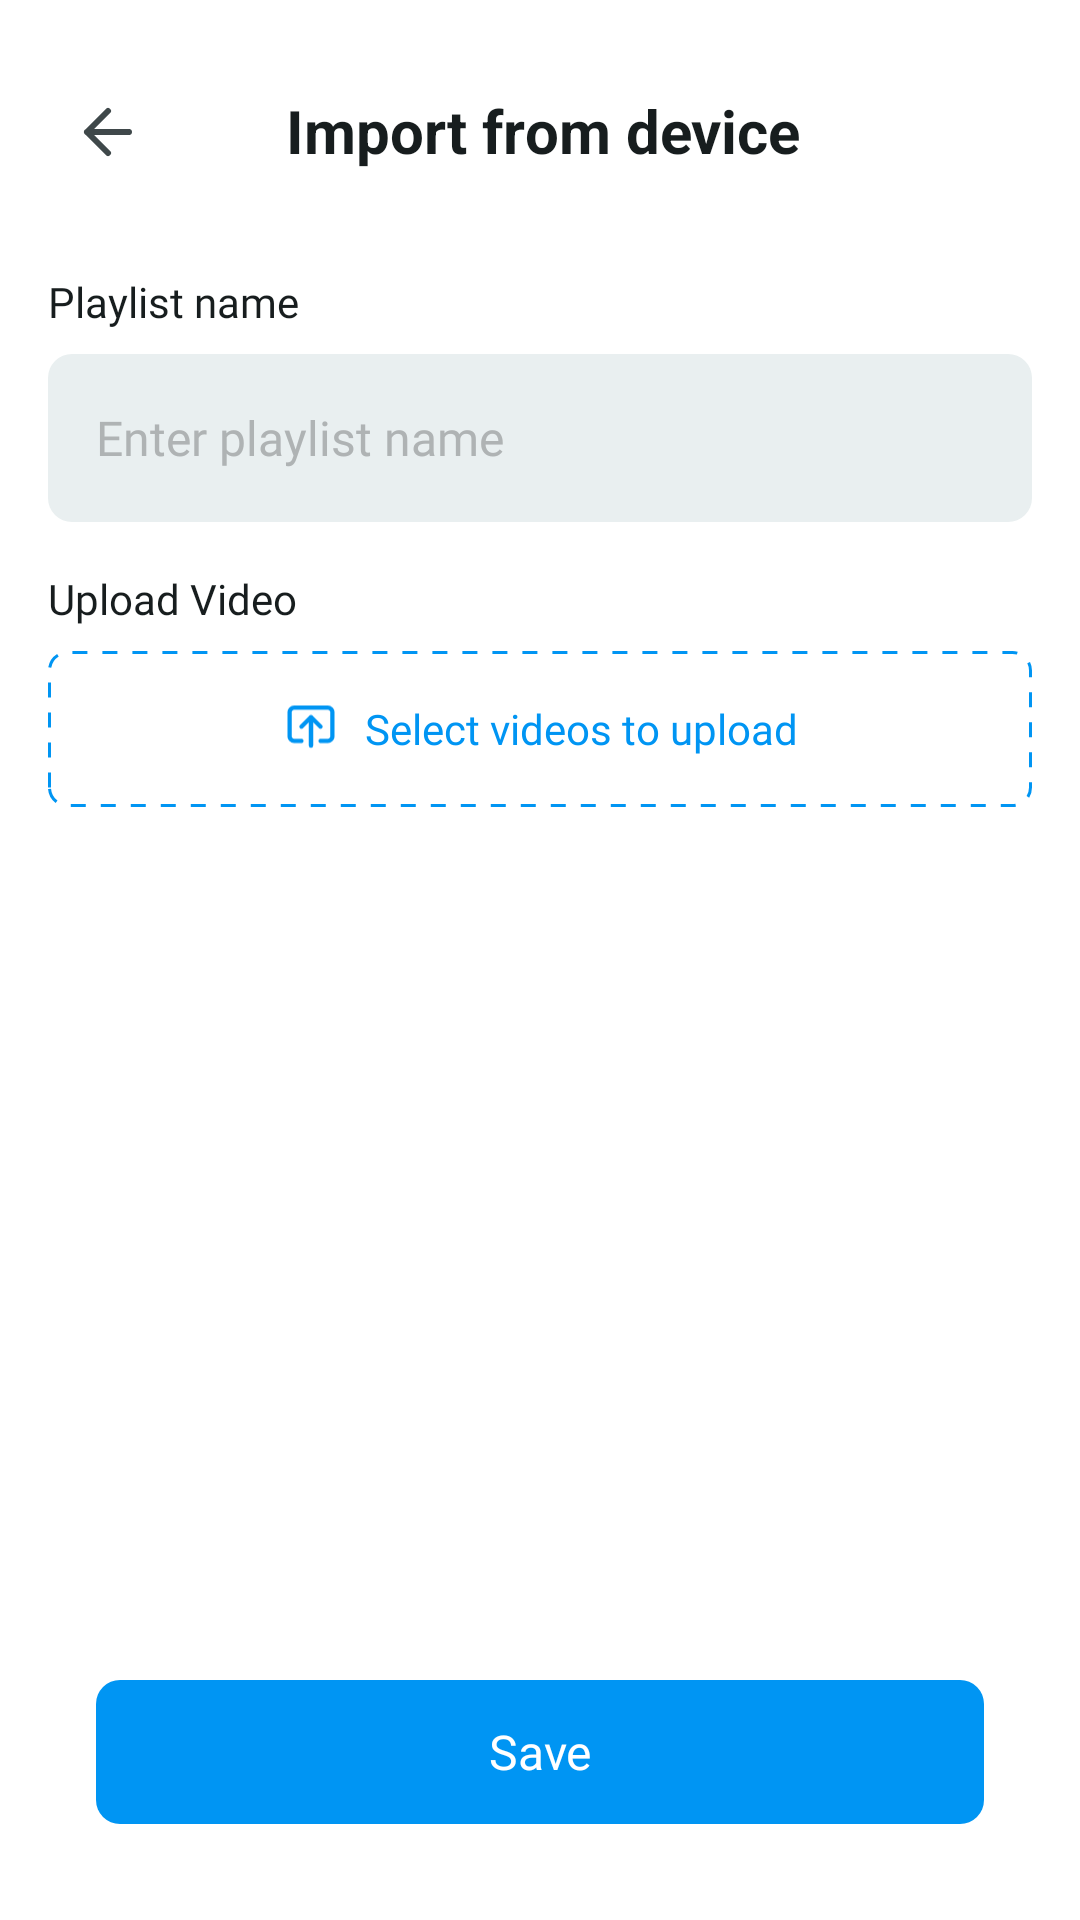

Where icons sit on this 1080 × 1920 app screen, as (x1, y1, x2, y2):
Back: (84, 108, 132, 156)
upload file: (287, 705, 335, 748)
